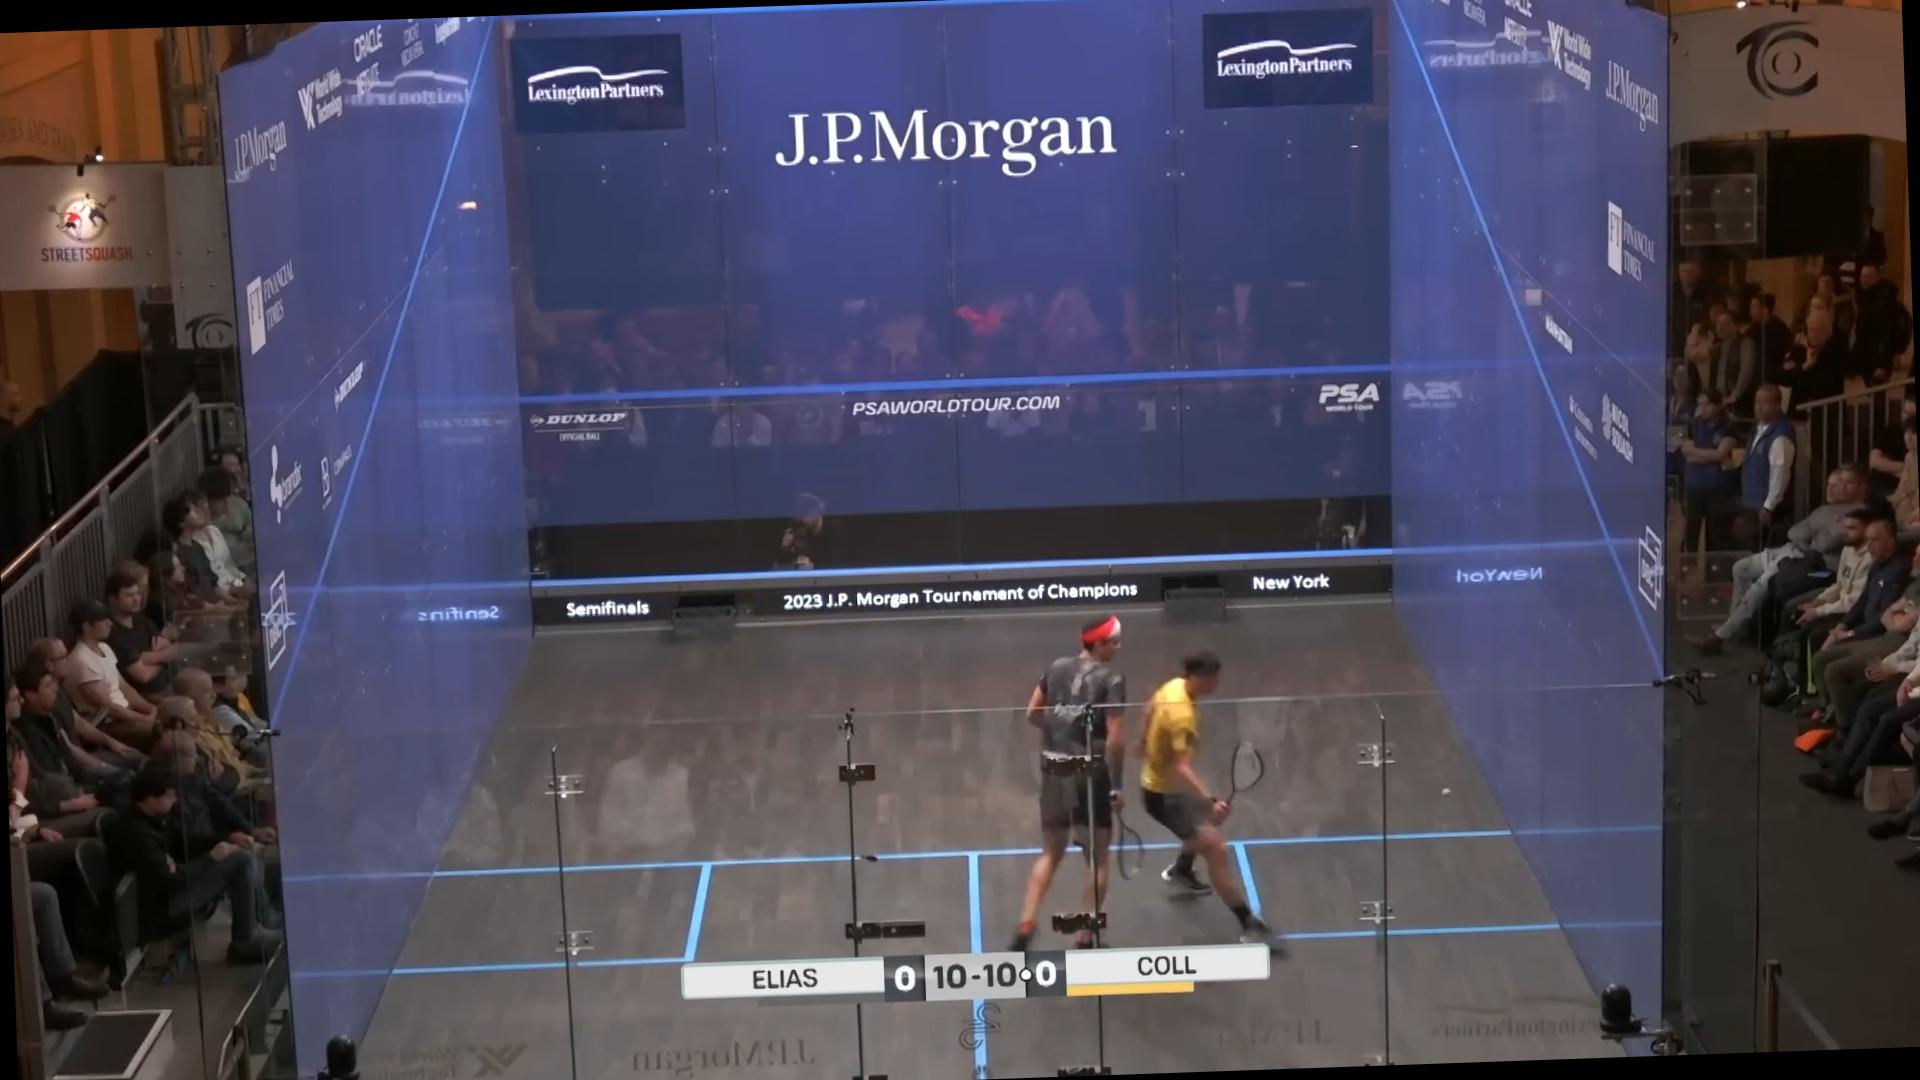Racket: (1217, 729, 1282, 808), (1102, 808, 1156, 884)
